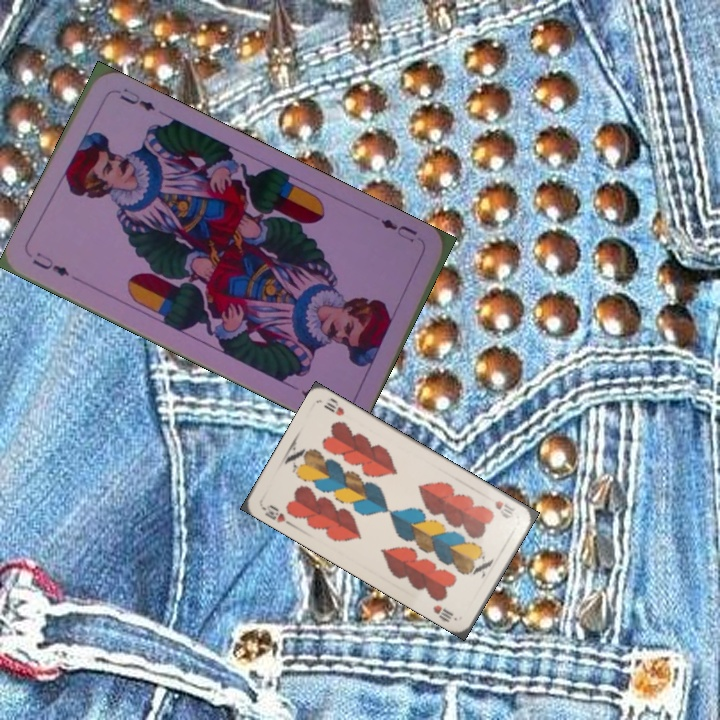EU: (376, 214, 425, 247), (28, 248, 72, 279)
H10: (258, 501, 288, 525), (491, 496, 518, 521)
